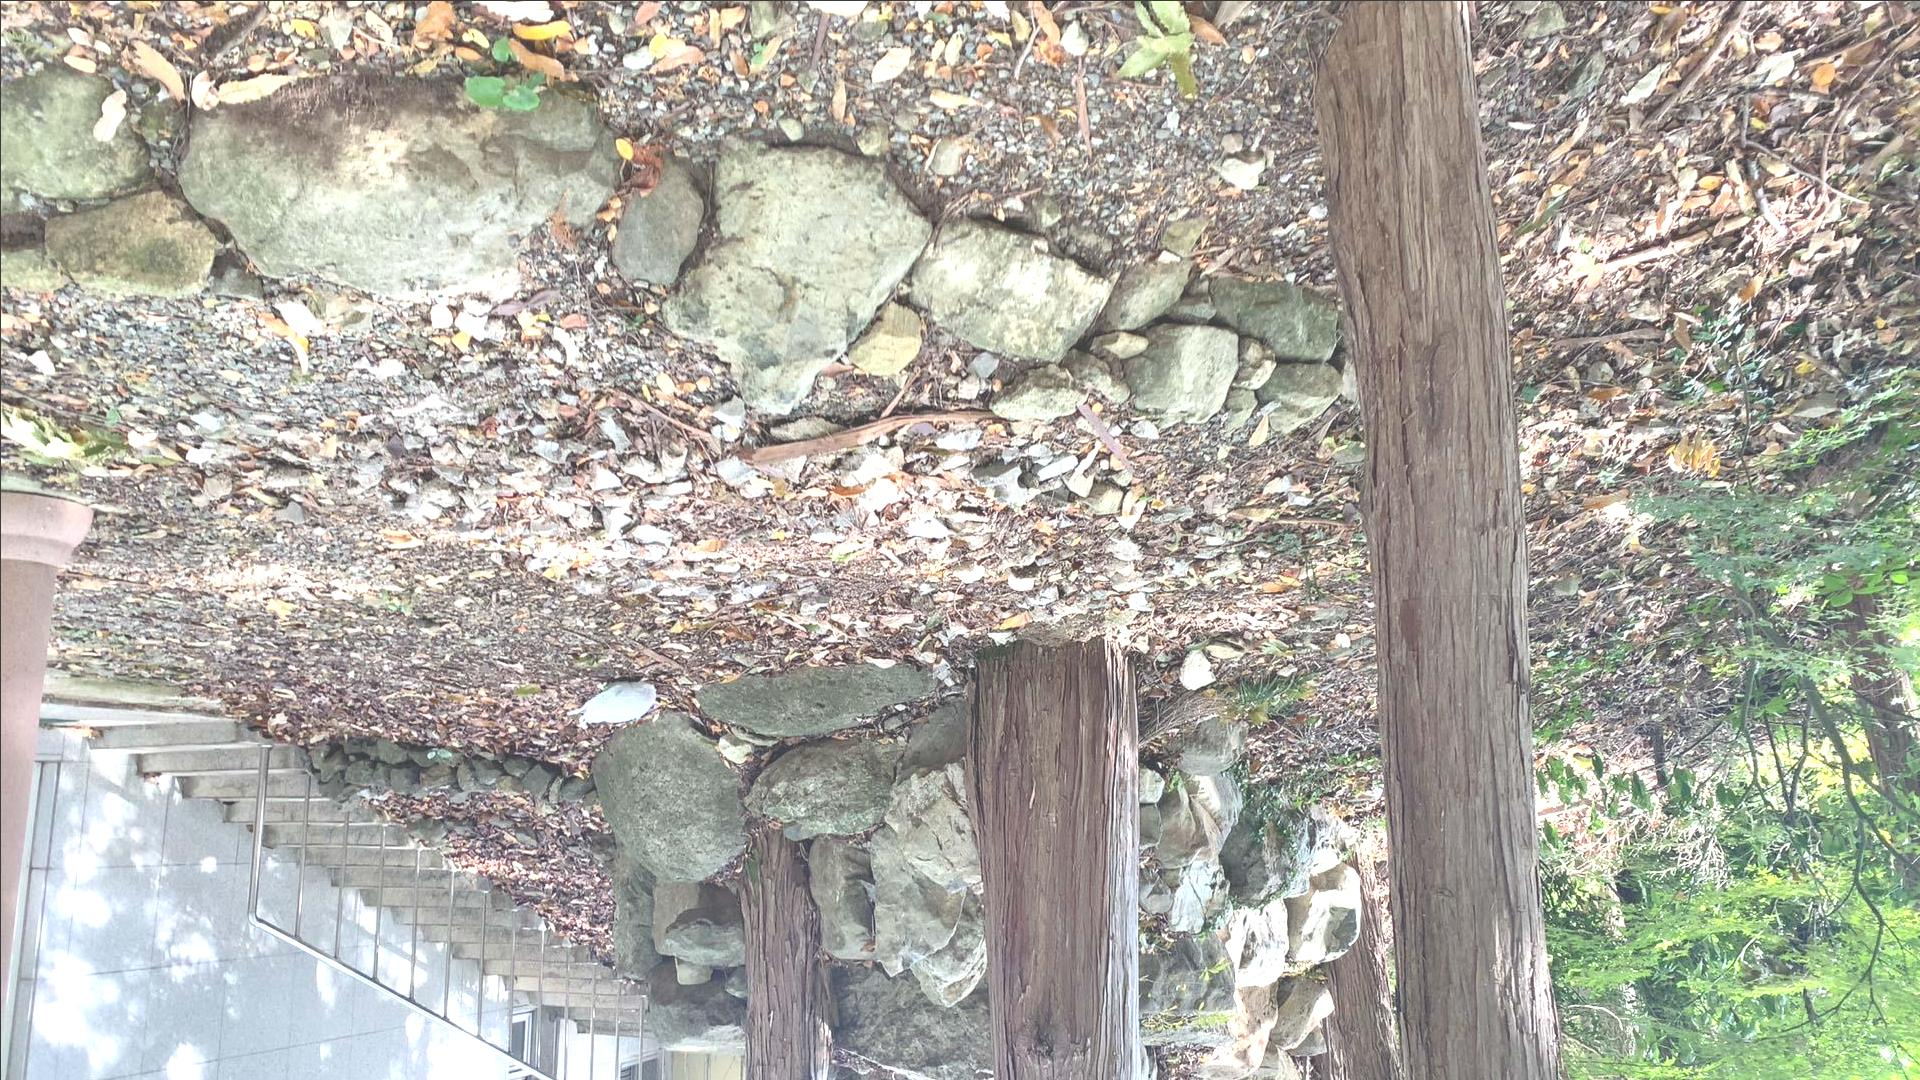white_bag: (560, 673, 663, 735)
